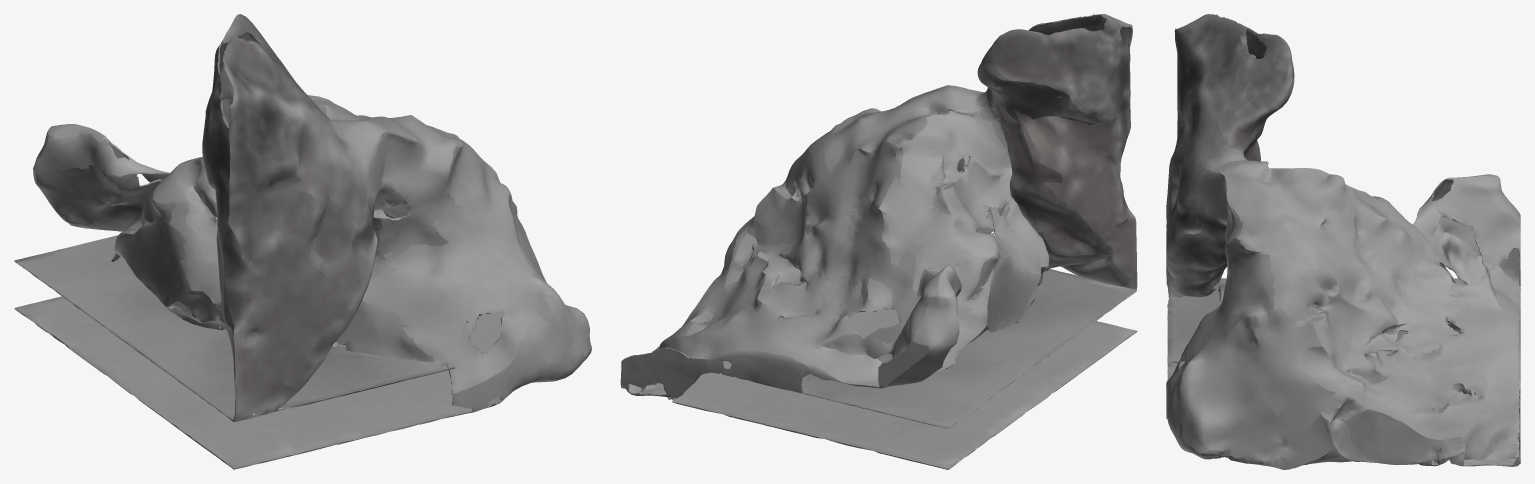
3 renders of one model, left to right at view 1: azimuth 30°, elevation 25°; view 2: azimuth 150°, elevation 25°; view 3: azimuth 270°, elevation 25°, orthographic. The views are drawn at different scales.
Parts seen in each view (by area): view 1: world; view 2: world; view 3: world.
Part boxes in pixels (<box>): world: <box>14,14,591,469</box>; world: <box>620,14,1137,469</box>; world: <box>1166,14,1520,469</box>.
Size of the model in its own units: 0.35 by 0.3422 by 0.3502.
Materials: 1 (1 with a texture image).
